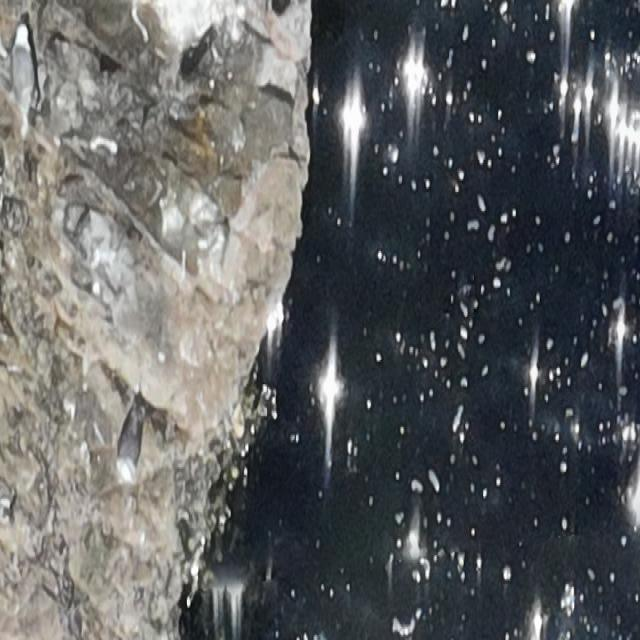umineko: (8, 22, 36, 125), (118, 405, 140, 486)
